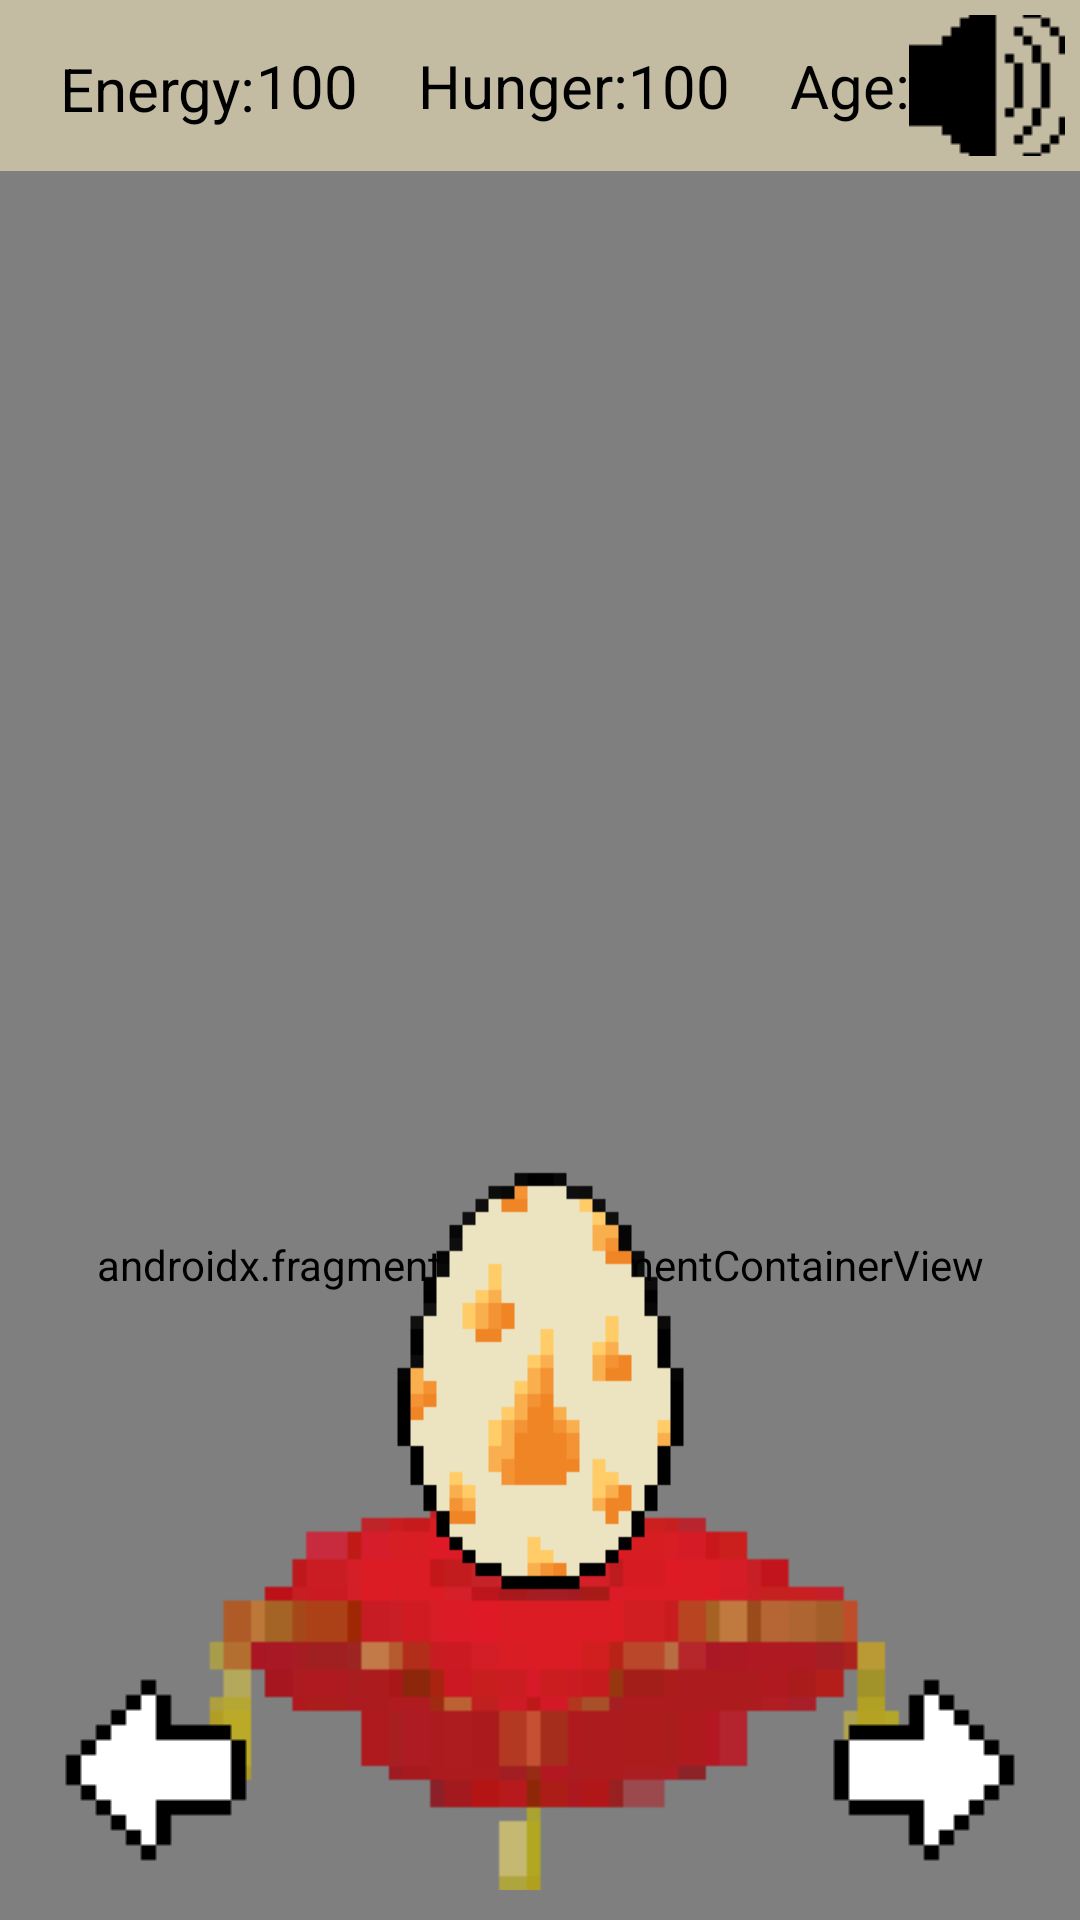

Icons on this 1080×1920 Android screen, each with the point to tap as (x,y):
Button for music toggle: (987,85)
